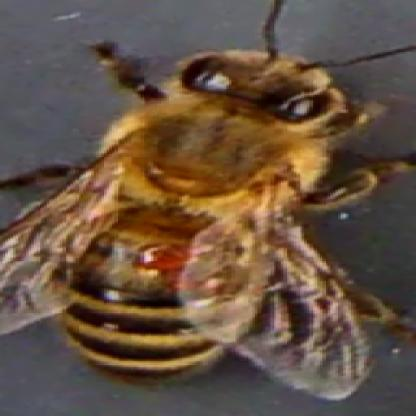bee: (46, 45, 361, 388)
vaoora: (143, 241, 184, 267)
